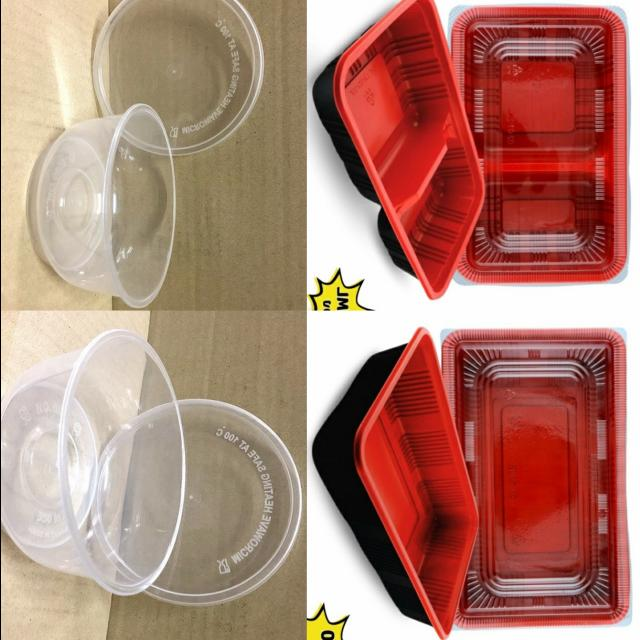plastik: (442, 329, 628, 628), (312, 328, 476, 638), (313, 0, 483, 299), (451, 6, 627, 284), (0, 330, 184, 595), (145, 398, 301, 606), (27, 105, 175, 308), (92, 0, 263, 156)
